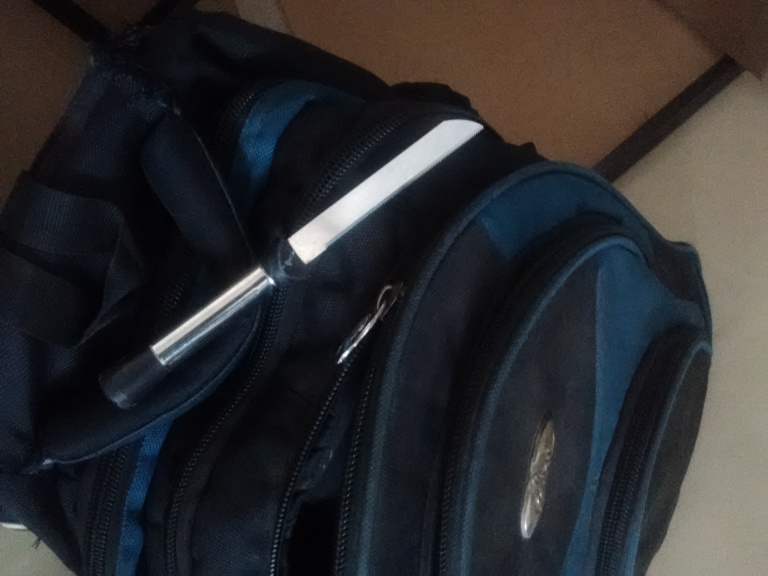knife: (96, 115, 491, 417)
